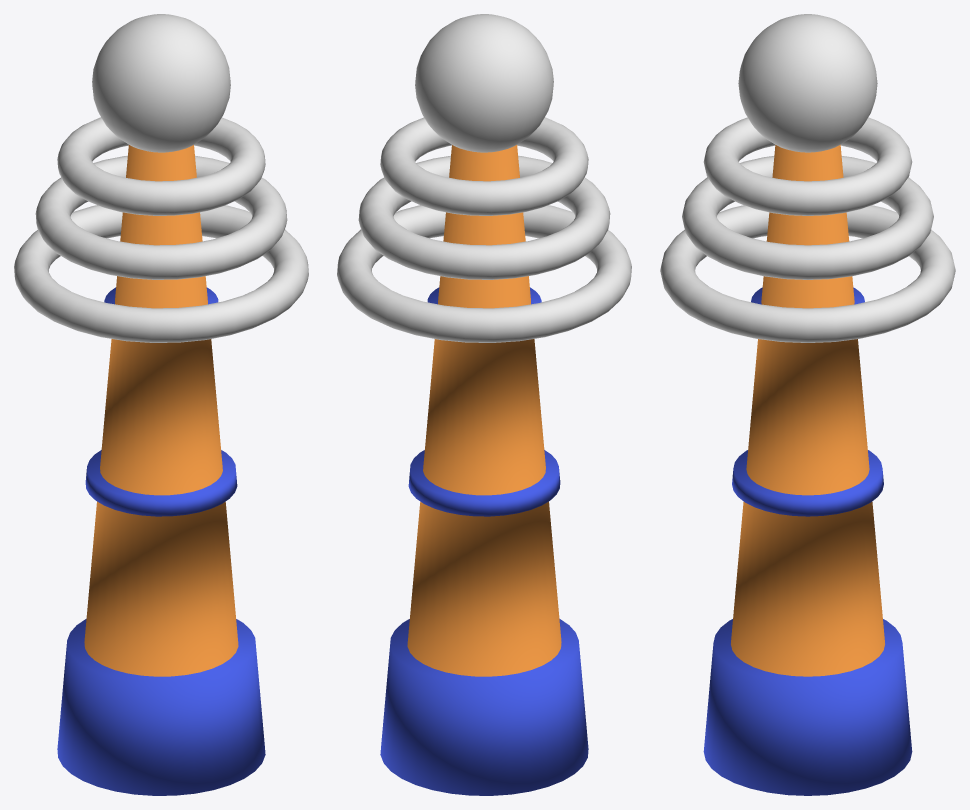
The model's file is tesla-coil.fbx.
The picture shows the model from 3 angles, left to right: view 1: azimuth 30°, elevation 25°; view 2: azimuth 150°, elevation 25°; view 3: azimuth 270°, elevation 25°; orthographic projection.
Visible parts, largest first — view 1: Cylinder, Torus.002, Sphere, Torus.001, Torus; view 2: Cylinder, Torus.002, Sphere, Torus.001, Torus; view 3: Cylinder, Torus.002, Sphere, Torus.001, Torus.
Boxes of the visible parts, bbox=[...] form: Cylinder: bbox=[57, 145, 265, 795]; Torus.002: bbox=[14, 205, 308, 342]; Sphere: bbox=[92, 14, 230, 152]; Torus.001: bbox=[35, 155, 287, 279]; Torus: bbox=[57, 117, 265, 215]; Cylinder: bbox=[380, 145, 588, 795]; Torus.002: bbox=[337, 205, 631, 342]; Sphere: bbox=[415, 14, 553, 152]; Torus.001: bbox=[358, 155, 610, 279]; Torus: bbox=[380, 117, 588, 215]; Cylinder: bbox=[703, 145, 912, 795]; Torus.002: bbox=[660, 205, 955, 342]; Sphere: bbox=[738, 14, 877, 152]; Torus.001: bbox=[682, 156, 933, 279]; Torus: bbox=[703, 117, 912, 215].
Bounding box in the file's own units: 170 × 465 × 170.
